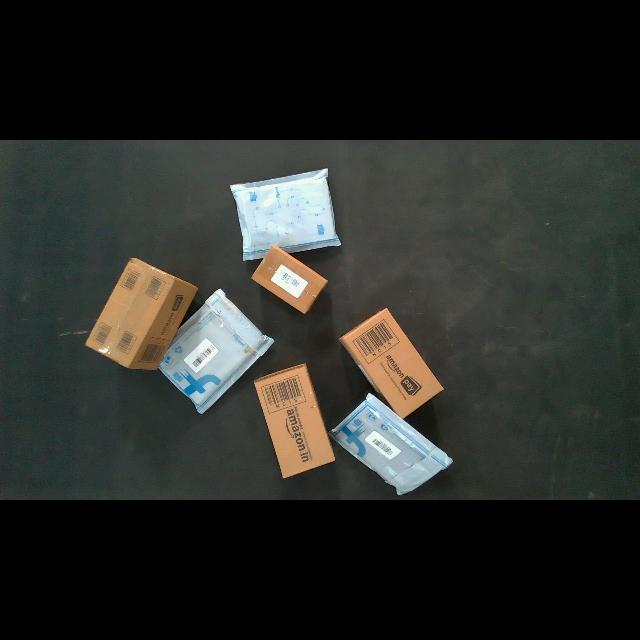box: (86, 258, 197, 369), (340, 309, 443, 418), (254, 364, 334, 478), (252, 246, 327, 313)
mailer: (160, 289, 273, 413), (329, 393, 452, 495), (230, 169, 340, 260)
